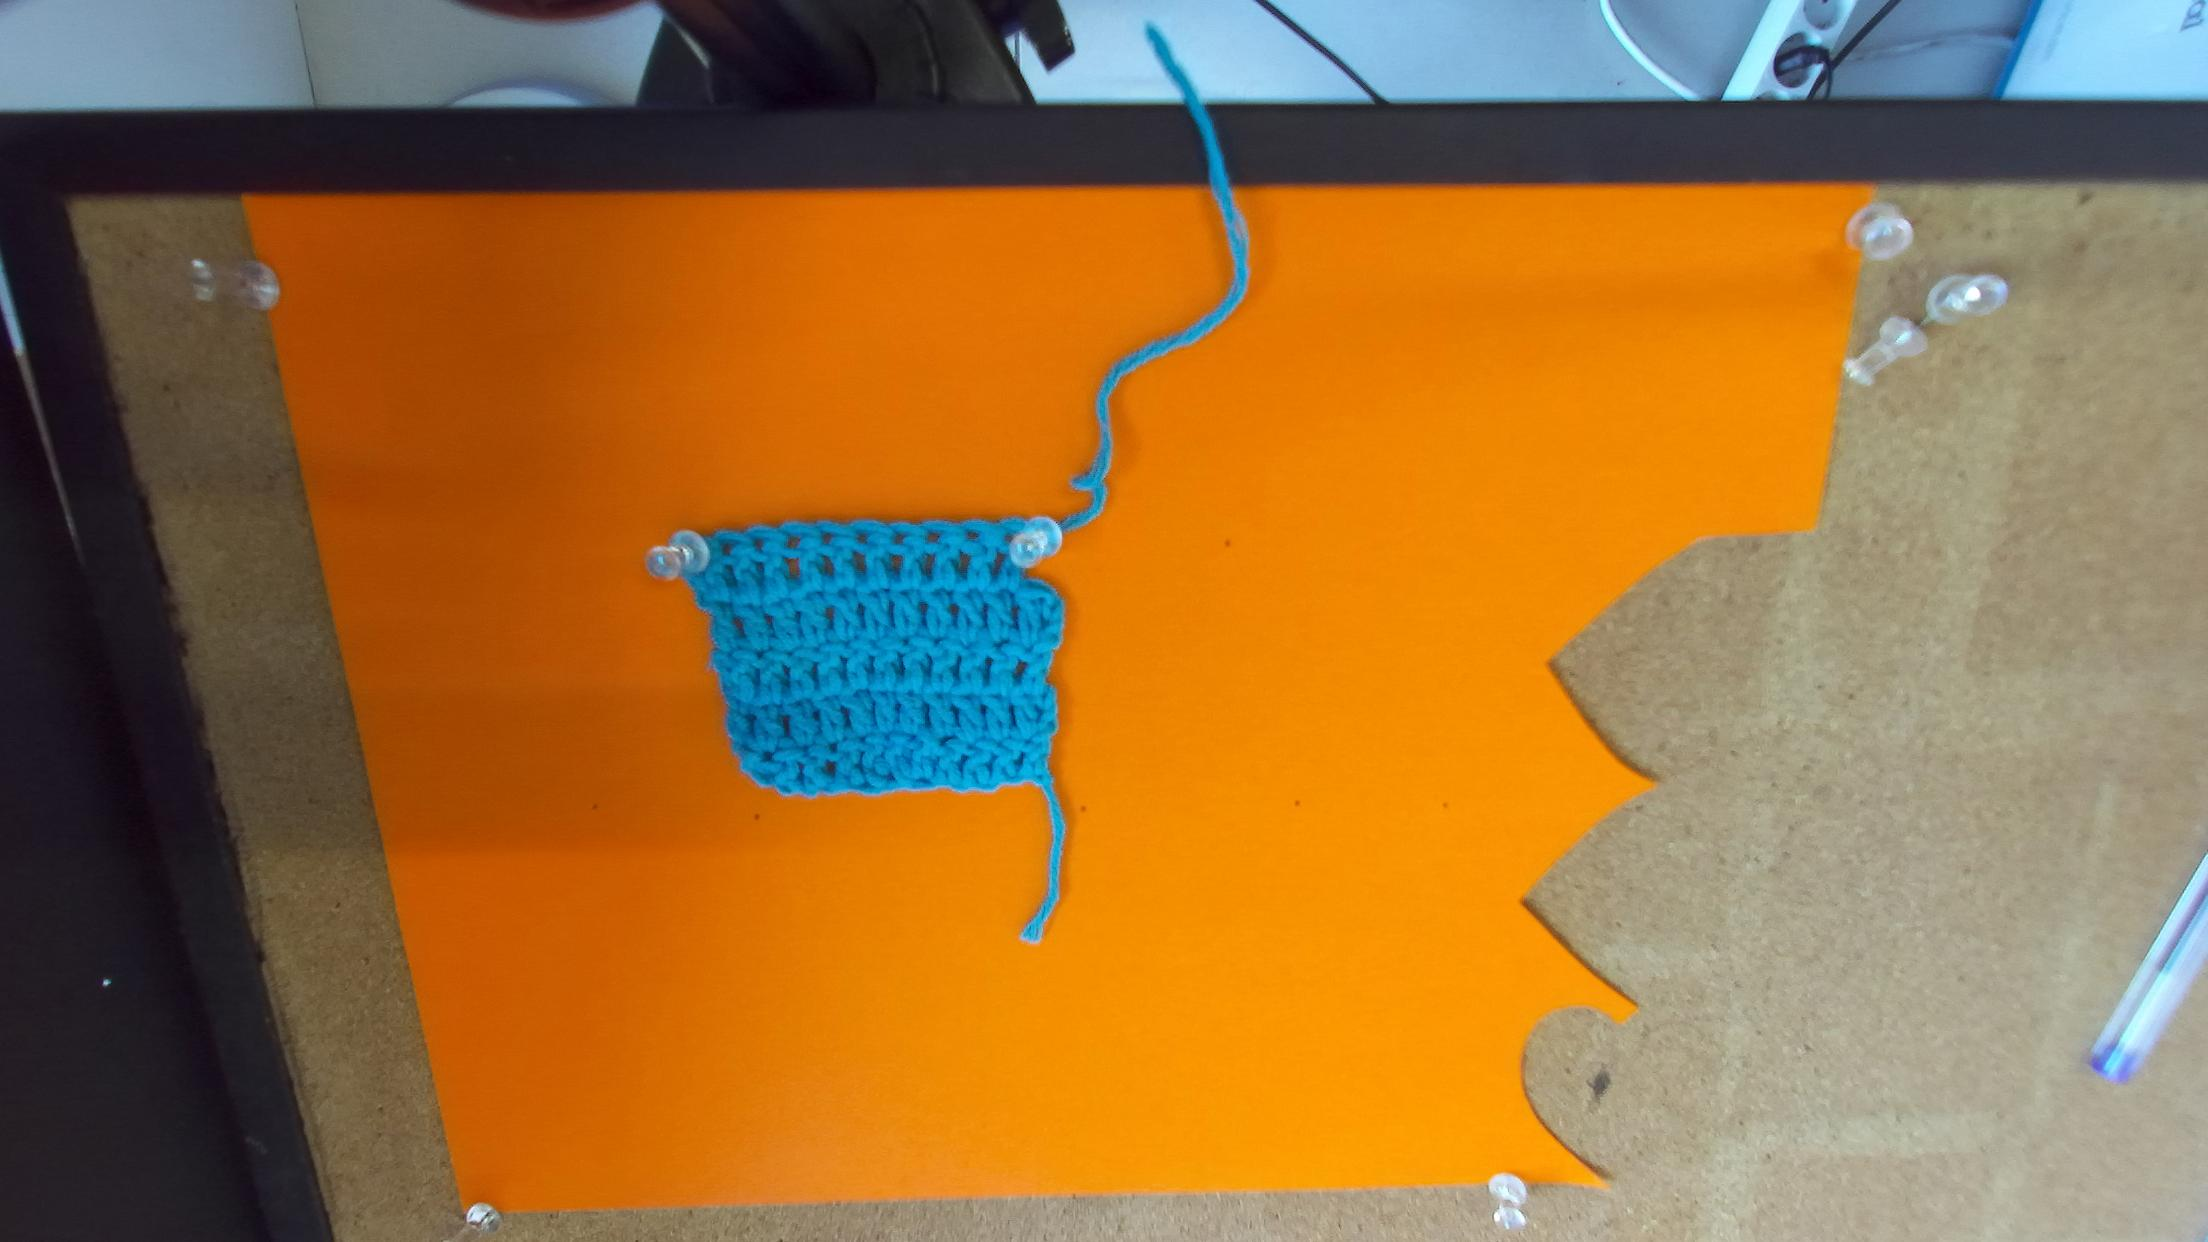hole: (720, 540, 739, 555), (890, 531, 908, 546), (786, 535, 805, 549), (751, 538, 769, 552), (925, 531, 942, 544), (964, 529, 981, 543), (822, 532, 836, 546), (855, 532, 869, 544), (1004, 532, 1016, 544)
swatch: (641, 517, 1071, 804)
